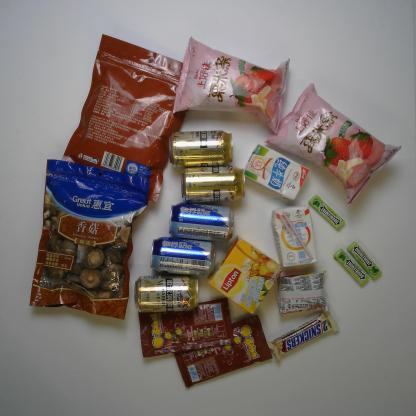Alcohol: (177, 160, 249, 206), (131, 272, 203, 318), (167, 201, 237, 246), (148, 235, 219, 278), (167, 127, 236, 169)
Candy: (170, 312, 275, 392), (136, 295, 235, 358)
Chocolate: (265, 308, 342, 366)
Dessert: (275, 266, 331, 320)
Dried Food: (61, 33, 192, 203), (28, 157, 152, 321)
Gum: (342, 239, 384, 284), (306, 192, 348, 233), (332, 246, 371, 287)
Instant Drink: (202, 234, 284, 316)
Milk: (244, 144, 312, 202), (270, 202, 318, 273)
Puffed Food: (263, 81, 405, 209), (173, 33, 293, 136)
